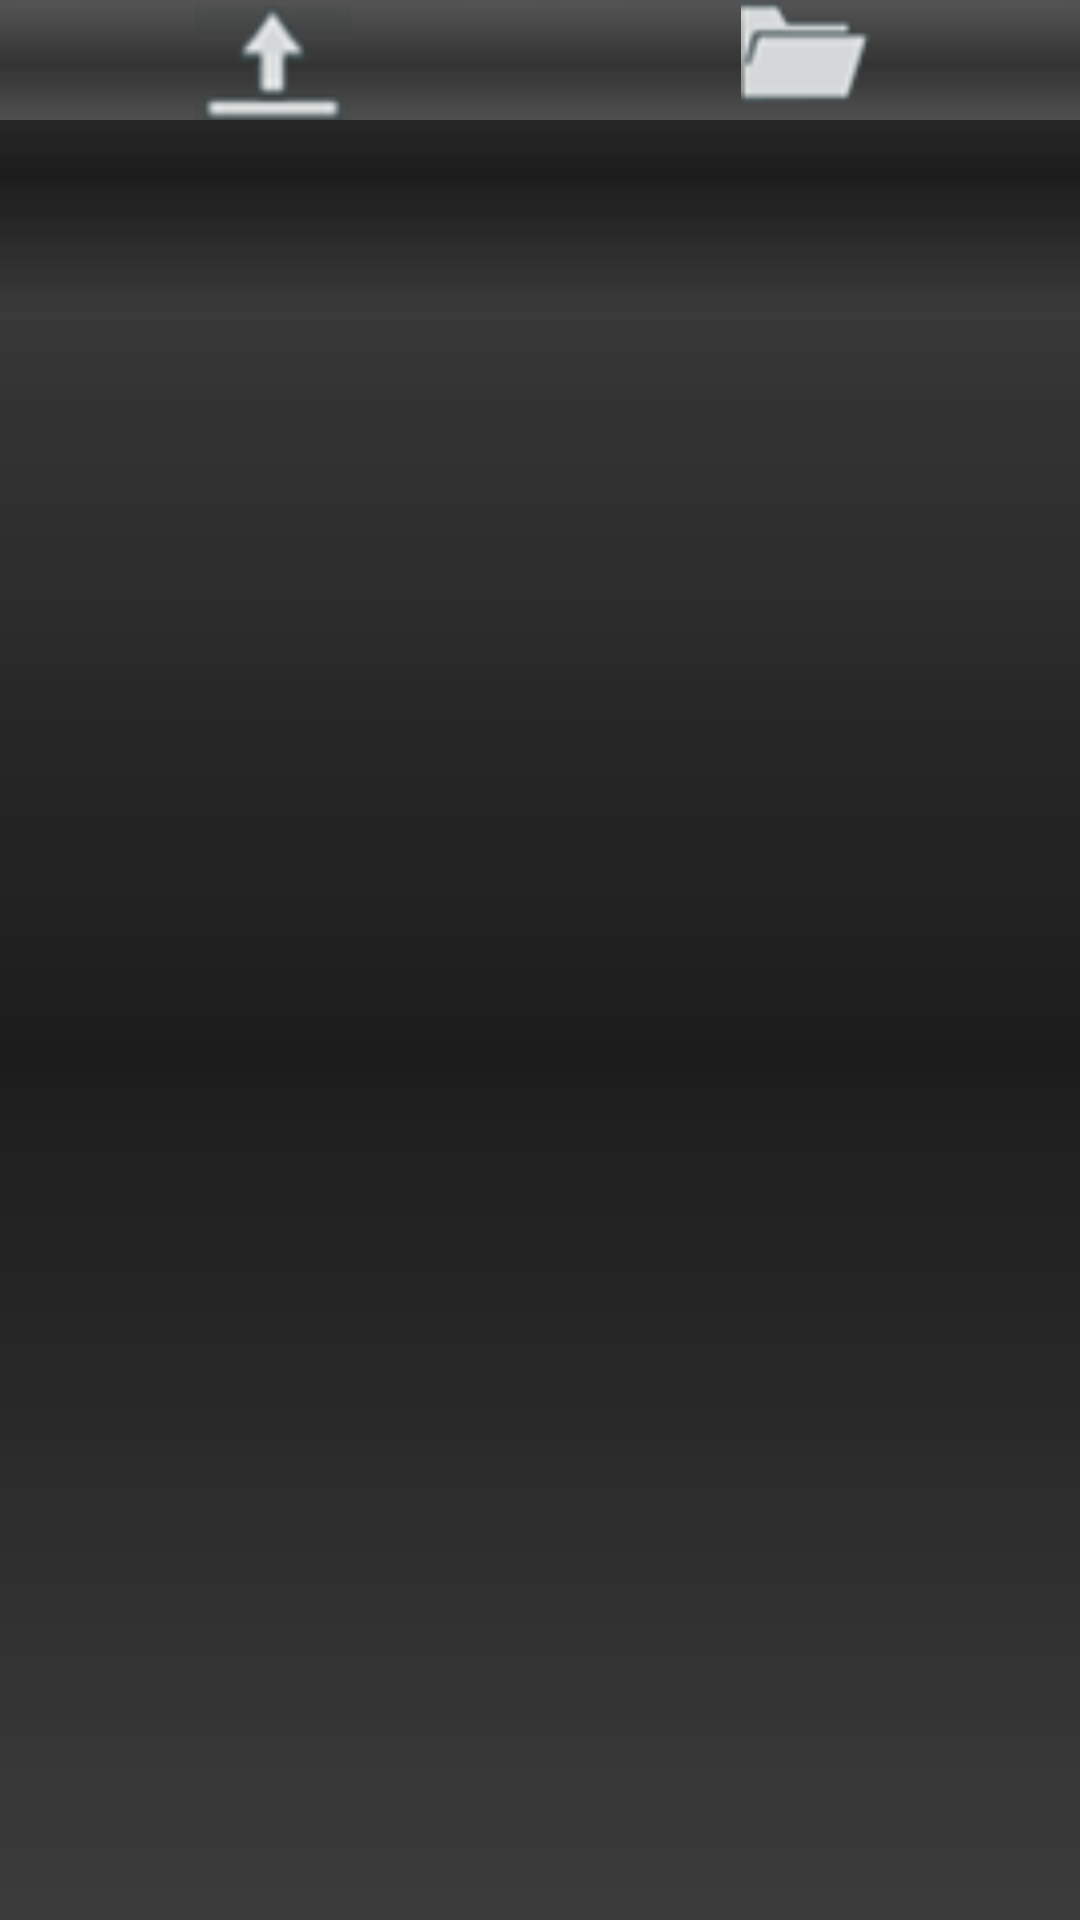

Where icons sit on this 1080*1920 app screen, as [x1,y1,x2,y2]:
upload: [195,0,351,120]
